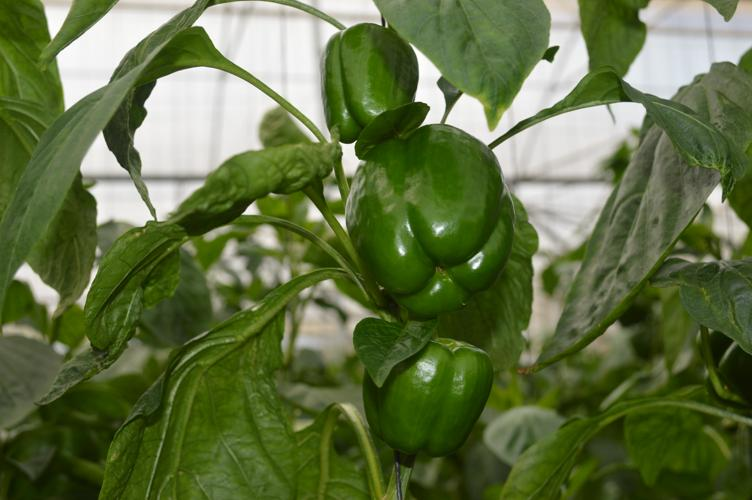BellPepper: (347, 124, 519, 316), (360, 337, 495, 456), (316, 22, 417, 136)
